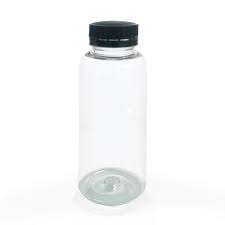available: (77, 19, 149, 208)
